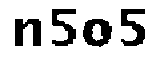5: (116, 6, 149, 55), (46, 6, 78, 54)
n: (12, 16, 43, 51)
o: (84, 14, 112, 49)
